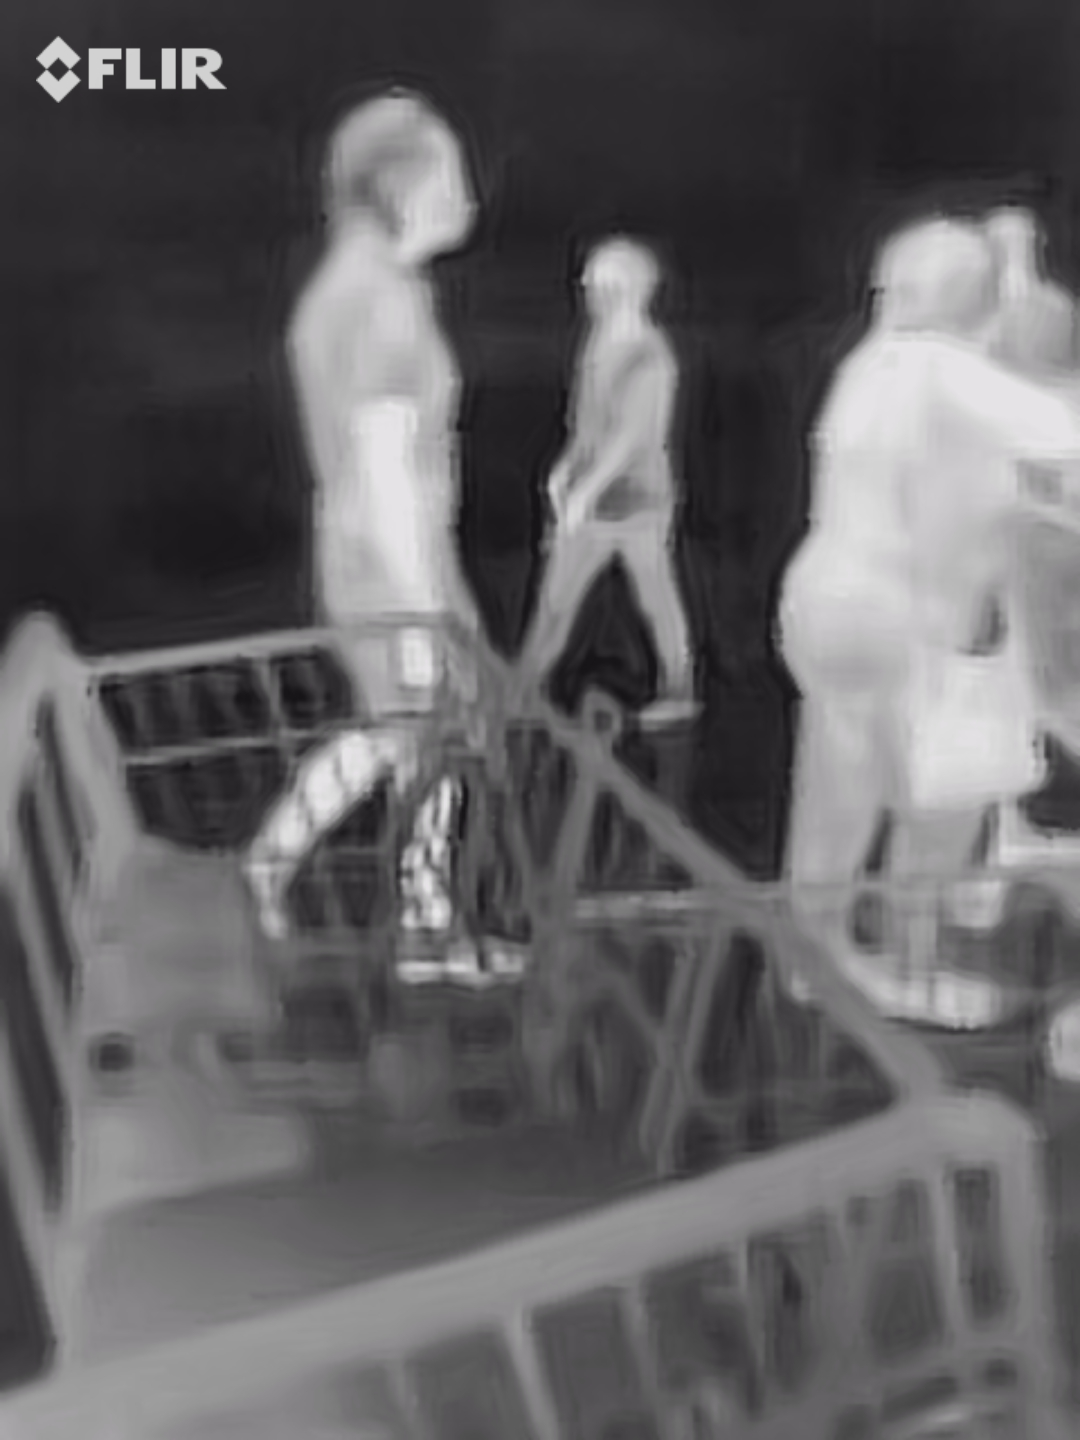head: (330, 105, 471, 254), (875, 223, 992, 338), (586, 247, 654, 321), (986, 215, 1039, 293)
